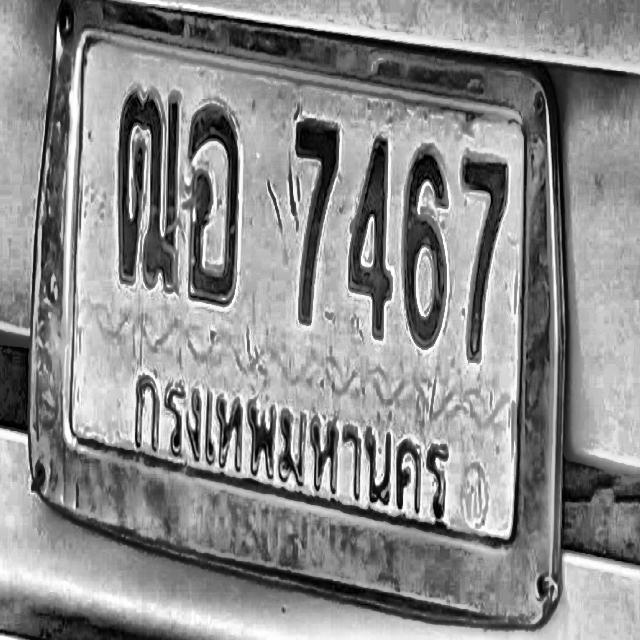license-plate: (27, 0, 569, 640)
